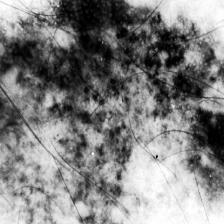Benign Marking or Mole: (0, 3, 224, 219)
